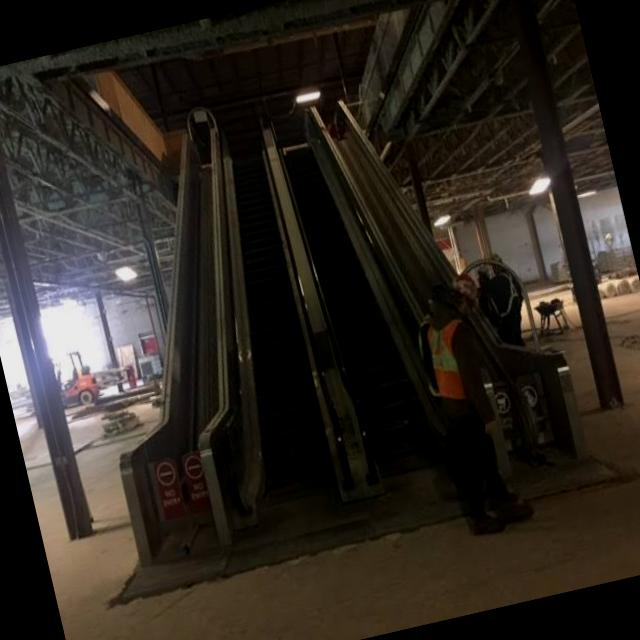escalator: (264, 96, 541, 543), (201, 118, 390, 571)
